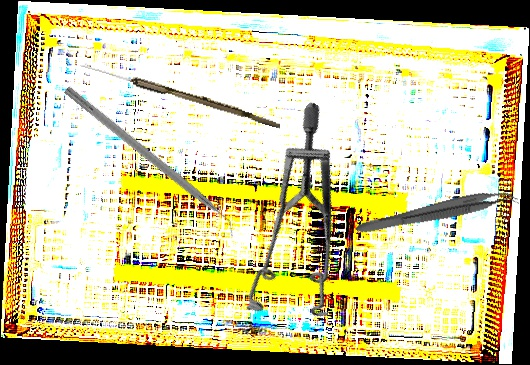Chopper: (55, 85, 243, 243)
Speculum: (181, 100, 427, 352)
Surgical Spoon: (78, 61, 283, 129)
Tissue Forceps: (354, 183, 520, 244)
